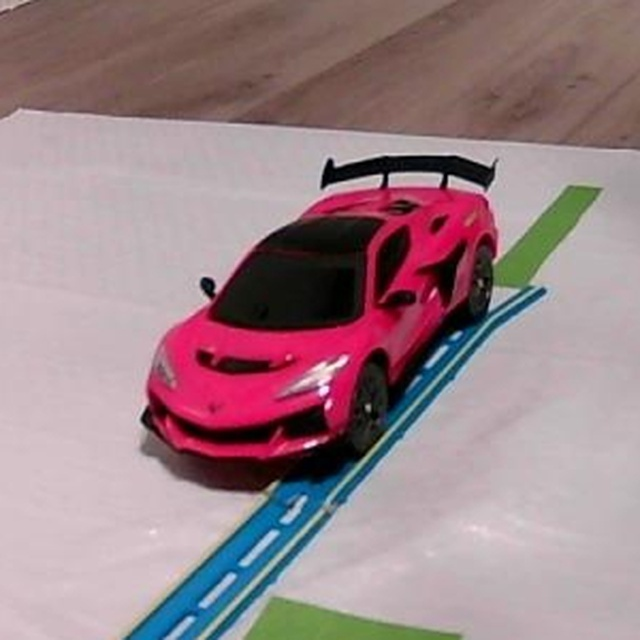tire_front_driver: (345, 365, 390, 455)
tire_rear_driver: (470, 250, 498, 325)
